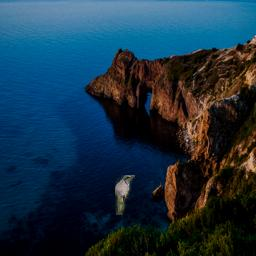Cuckoo: (115, 175, 135, 215)
